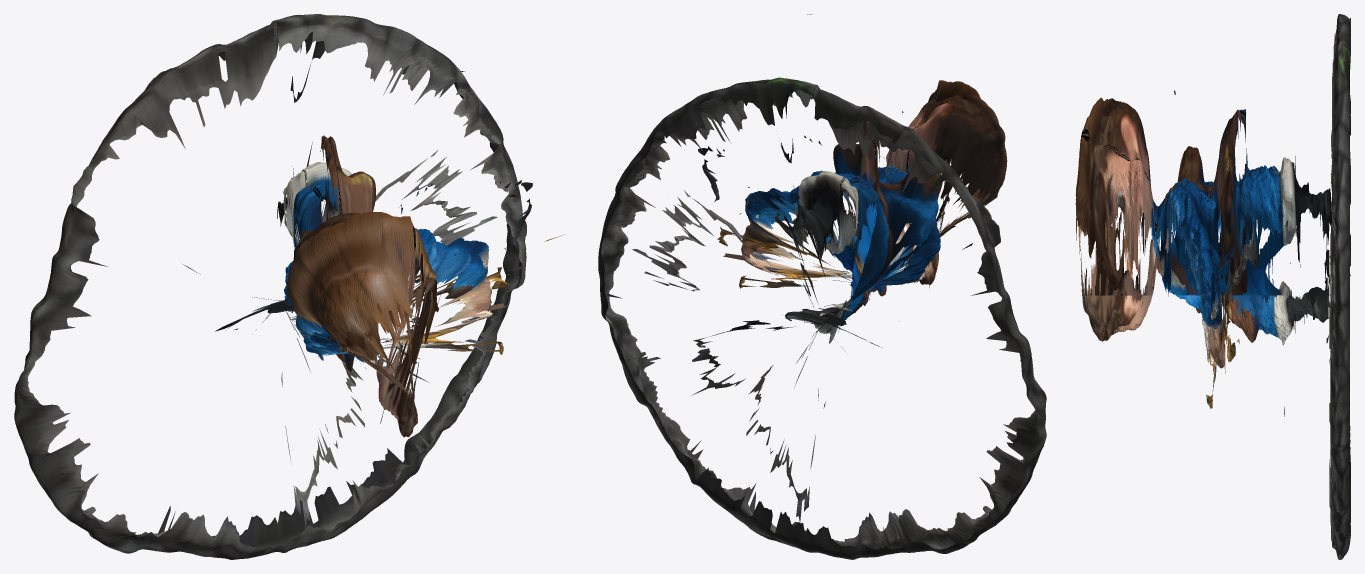
3 renders of one model, left to right at view 1: azimuth 30°, elevation 25°; view 2: azimuth 150°, elevation 25°; view 3: azimuth 270°, elevation 25°, orthographic. The views are drawn at different scales.
Parts seen in each view (by area): view 1: geometry_0; view 2: geometry_0; view 3: geometry_0.
Part boxes in pixels (bbox=[...]): geometry_0: bbox=[14, 14, 565, 559]; geometry_0: bbox=[598, 14, 1046, 559]; geometry_0: bbox=[1075, 14, 1350, 559].
Bounding box in the file's own units: 1.87 × 1.86 × 0.9423.
1 material, 1 textured.
